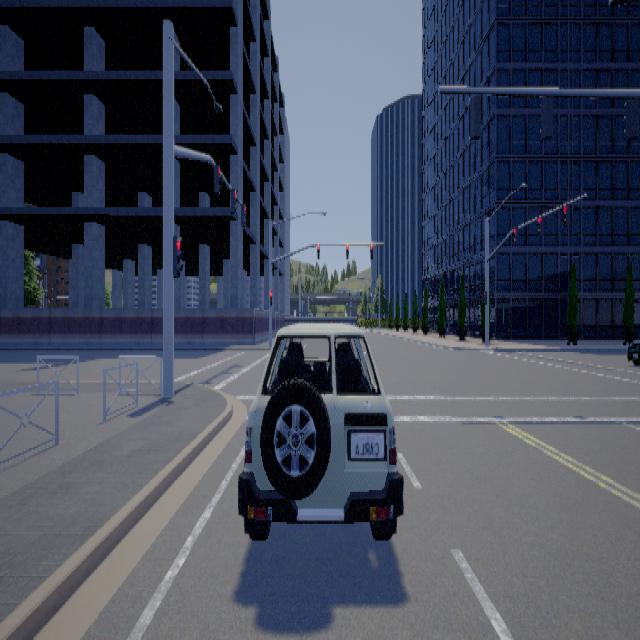red_light: (174, 234, 185, 276), (215, 163, 224, 194), (563, 202, 571, 226), (232, 187, 239, 212), (242, 202, 248, 226), (538, 214, 545, 234), (514, 226, 520, 244), (484, 290, 488, 303), (371, 242, 374, 258), (346, 244, 349, 258), (270, 290, 272, 305), (318, 243, 320, 258)
vehicle: (239, 308, 405, 539)
